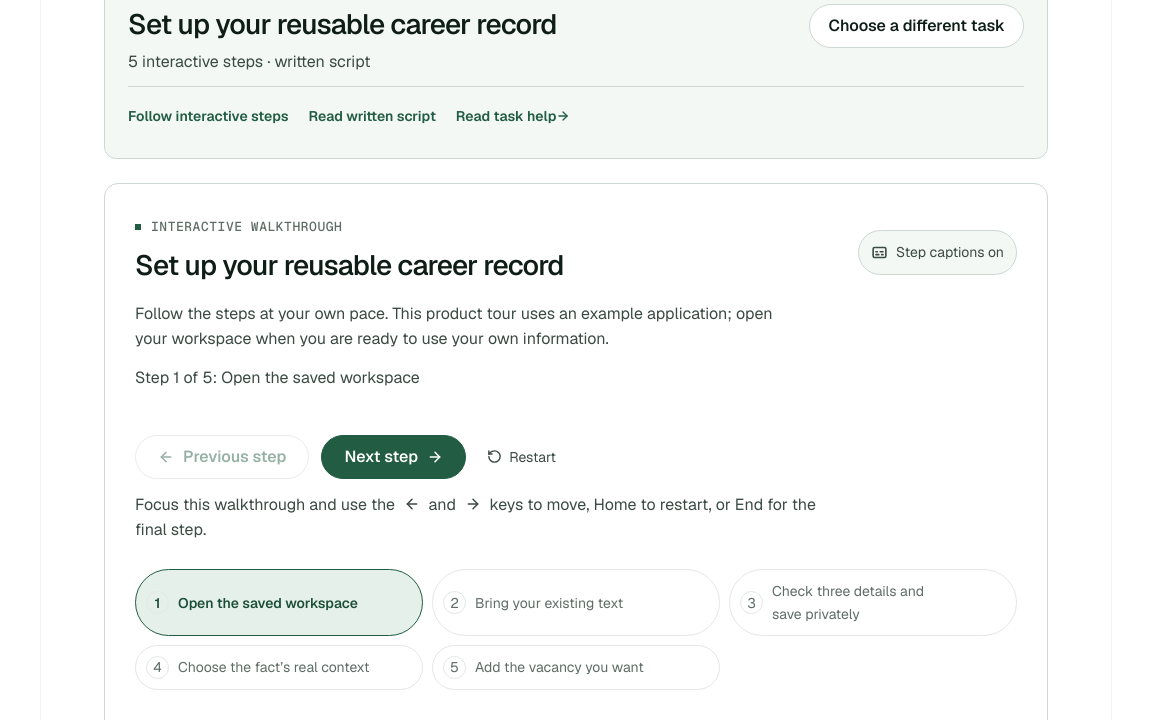
Test: honest interactive walkthroughs › keeps the job-loop-start text tour readable and navigable while its recording is unlisted
Later steps or results of the test are not shown.
(page scrolled)
Expected: the element named "Selected walkthrough" shows "Set up your reusable career record", [128,6,557,42]
Expected: the message reads "Step 1 of 5: Open the saved workspace", [135,367,420,388]
Click the button "Next step". click: (394, 457)
box: [321,435,466,479]
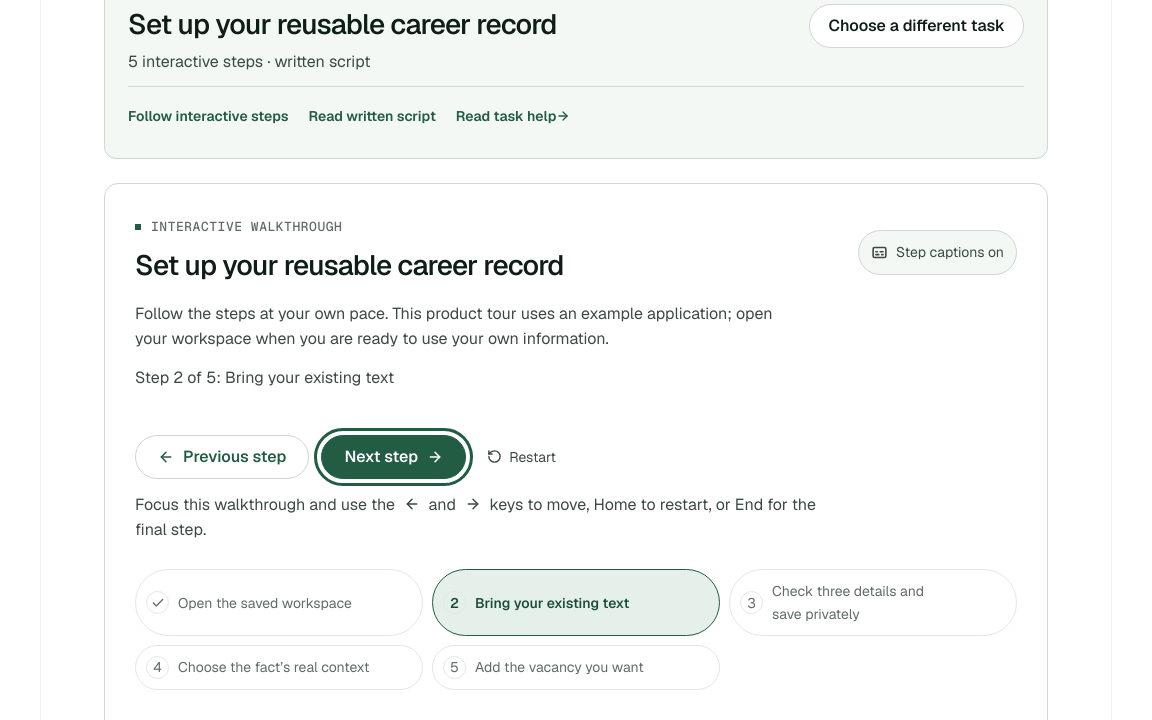
Click the button "Next step". click: (394, 457)
box: [321,435,466,479]
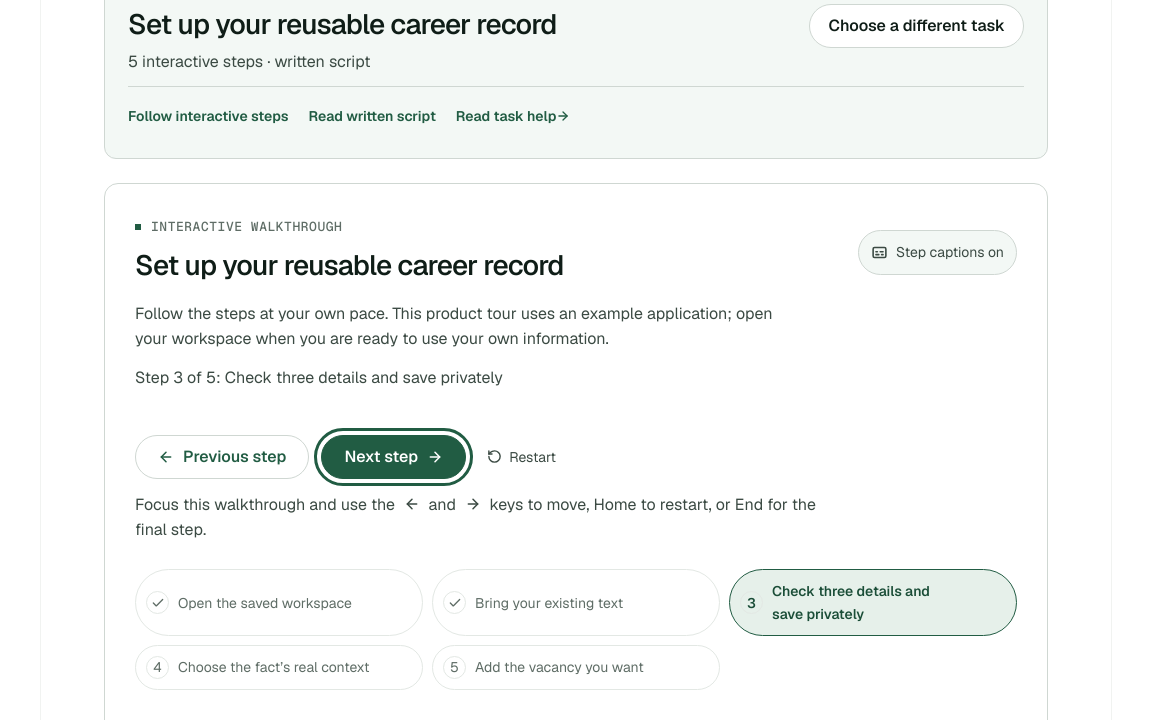
Click the button "Next step". click: (394, 457)
box: [321,435,466,479]
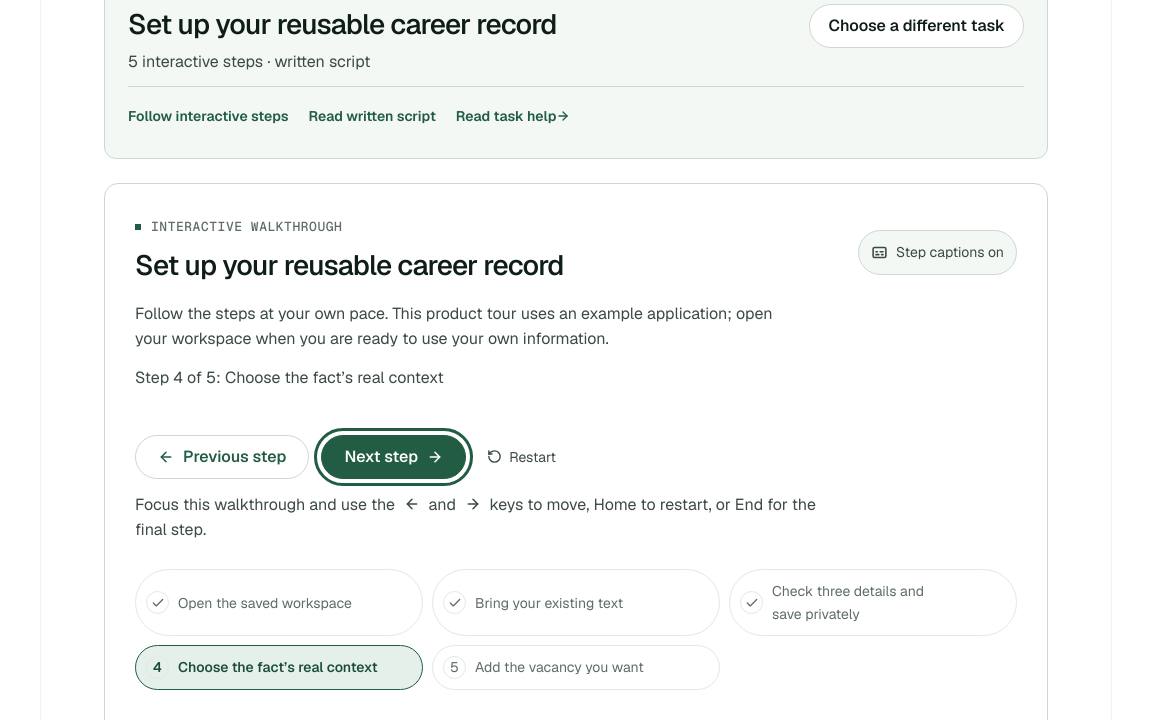
Click the button "Next step". click: (394, 457)
box: [321,435,466,479]
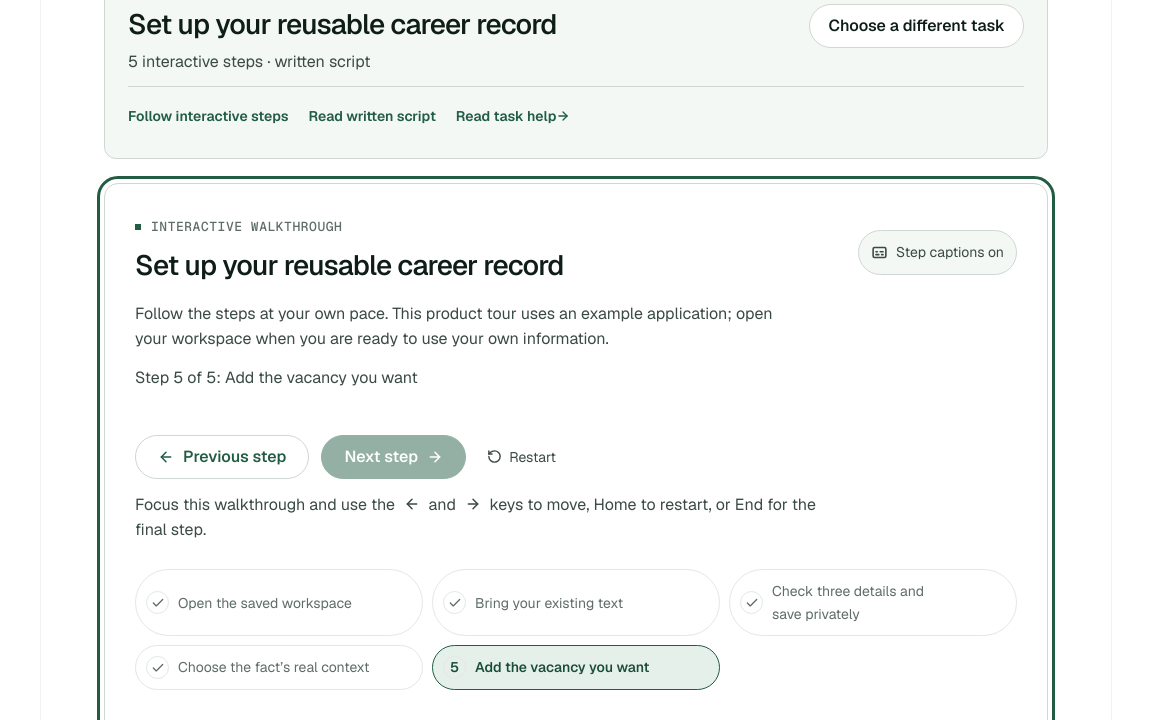
Expected: the button "Next step" is disabled, [321,435,466,479]
Click the button "Restart". click: (522, 457)
box: [478,435,565,479]
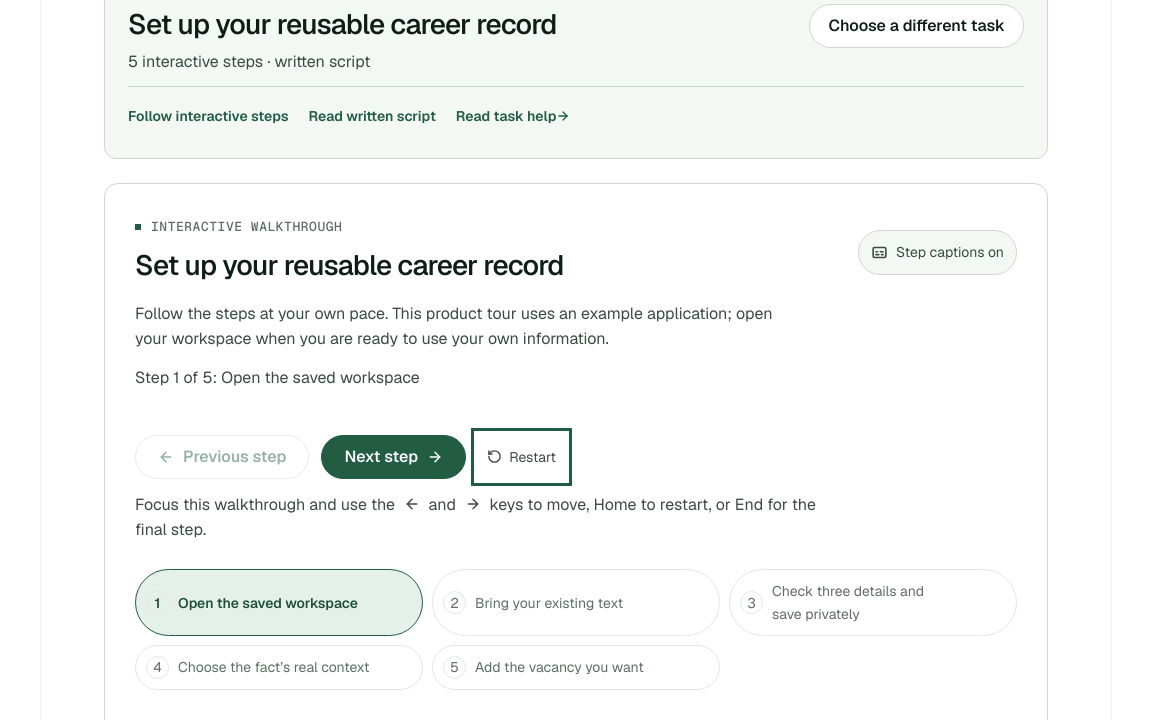
Expected: the message reads "Step 1 of 5: Open the saved workspace", [135,367,420,388]
